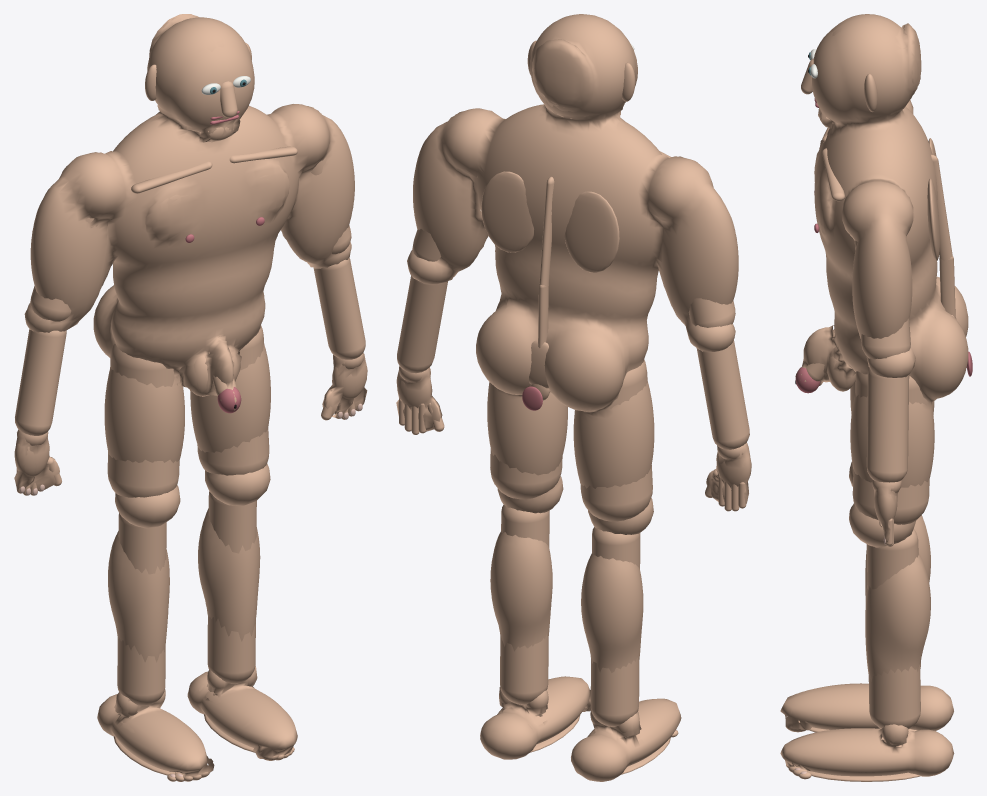
File: body-hochbetagt-maennlich-v2.glb
3 renders of one model, left to right at view 1: azimuth 30°, elevation 25°; view 2: azimuth 150°, elevation 25°; view 3: azimuth 270°, elevation 25°, orthographic.
Parts seen in each view (by area): view 1: zone__visual-surface-body-hochbetagt-maennlich, zone__surface-lower-leg-right, zone__surface-lower-leg-left, zone__surface-thigh-left, zone__surface-forearm-left, zone__surface-forearm-right, zone__surface-thigh-right, zone__surface-upper-arm-left, zone__surface-clavicle-left; view 2: zone__visual-surface-body-hochbetagt-maennlich, zone__surface-lower-leg-left, zone__surface-lower-leg-right, zone__surface-forearm-left, zone__surface-scapula-left, zone__surface-forearm-right, zone__surface-scapula-right, zone__surface-thigh-left, zone__surface-thigh-right, zone__surface-upper-arm-left, zone__surface-thoracic-spine, zone__surface-sacrum (+2 smaller); view 3: zone__visual-surface-body-hochbetagt-maennlich, zone__surface-lower-leg-right, zone__surface-forearm-right, zone__surface-thigh-right, zone__surface-upper-arm-right, zone__surface-thoracic-spine, zone__surface-lumbar-spine, zone__surface-scapula-right, zone__surface-sole-right, zone__surface-clavicle-right, zone__surface-ear-right, zone__surface-glans.
Boxes of the visible parts, x1,y1,x2,y2 form: zone__visual-surface-body-hochbetagt-maennlich: (14, 14, 367, 776); zone__surface-lower-leg-right: (207, 491, 256, 684); zone__surface-lower-leg-left: (117, 513, 166, 705); zone__surface-thigh-left: (107, 343, 179, 497); zone__surface-forearm-left: (15, 329, 66, 435); zone__surface-forearm-right: (313, 257, 365, 359); zone__surface-thigh-right: (197, 325, 269, 475); zone__surface-upper-arm-left: (30, 217, 98, 321); zone__surface-clavicle-left: (131, 161, 212, 193); zone__visual-surface-body-hochbetagt-maennlich: (396, 14, 751, 781); zone__surface-lower-leg-left: (590, 527, 640, 726); zone__surface-lower-leg-right: (500, 505, 549, 704); zone__surface-forearm-left: (696, 340, 749, 449); zone__surface-scapula-left: (564, 191, 619, 272); zone__surface-forearm-right: (397, 275, 447, 373); zone__surface-scapula-right: (481, 171, 533, 252); zone__surface-thigh-left: (580, 360, 652, 521); zone__surface-thigh-right: (490, 448, 562, 499); zone__surface-upper-arm-left: (688, 298, 735, 327); zone__surface-thoracic-spine: (539, 176, 554, 290); zone__surface-sacrum: (529, 340, 548, 388); zone__visual-surface-body-hochbetagt-maennlich: (780, 14, 968, 776); zone__surface-lower-leg-right: (866, 528, 920, 728); zone__surface-forearm-right: (866, 367, 909, 482); zone__surface-thigh-right: (852, 371, 930, 524); zone__surface-upper-arm-right: (854, 240, 910, 359); zone__surface-thoracic-spine: (931, 154, 952, 264); zone__surface-lumbar-spine: (939, 256, 955, 317); zone__surface-scapula-right: (927, 178, 939, 261); zone__surface-sole-right: (808, 770, 920, 781); zone__surface-clavicle-right: (822, 148, 844, 201); zone__surface-ear-right: (864, 74, 877, 111); zone__surface-glans: (795, 367, 820, 393).
Bounding box in the file's own units: 0.8092 × 1.59 × 0.3792.
